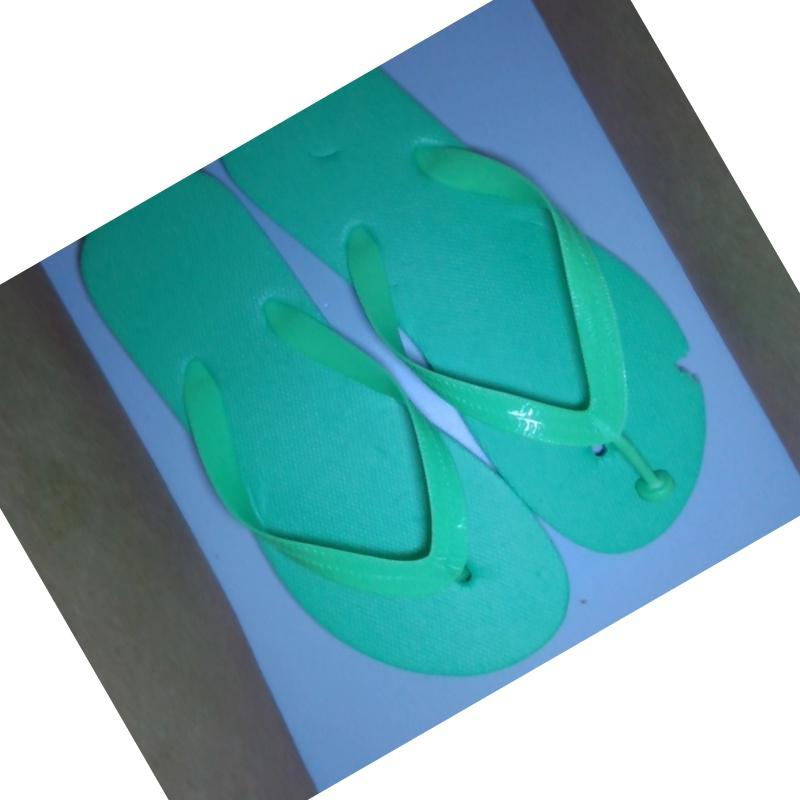chipped: (659, 335, 713, 405)
detached: (625, 456, 684, 512)
